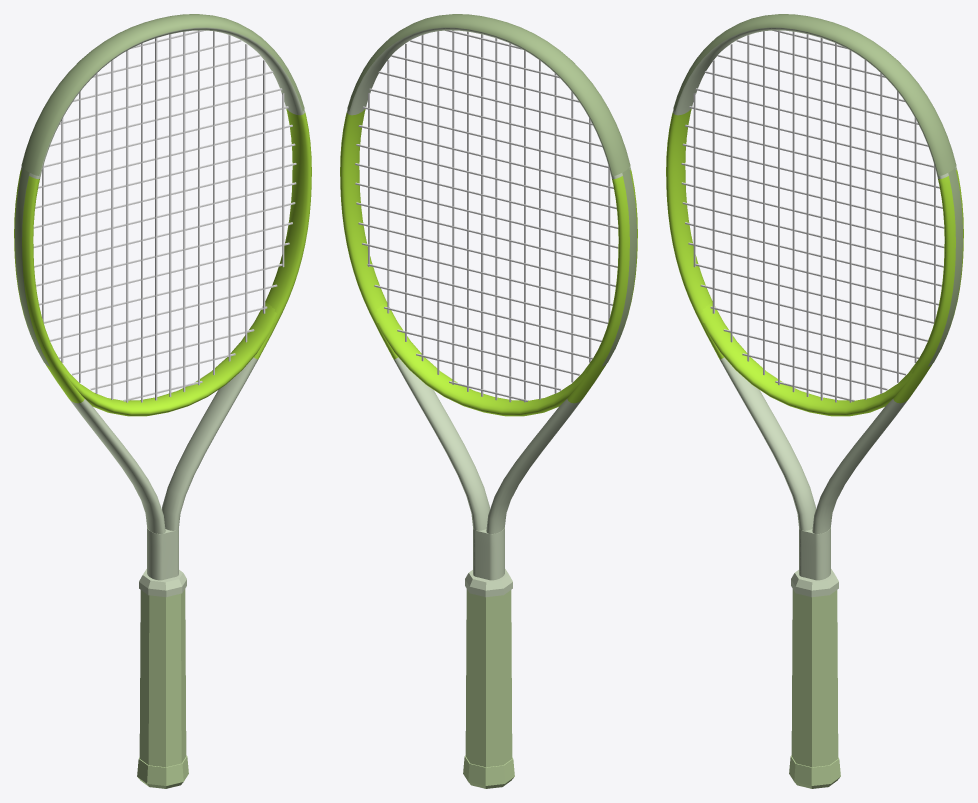
File: head-extreme-team-2024.glb
3 renders of one model, left to right at view 1: azimuth 30°, elevation 25°; view 2: azimuth 150°, elevation 25°; view 3: azimuth 330°, elevation 25°, orthographic.
Parts seen in each view (by area): view 1: frame, strings_mains, strings_crosses, grip, bumper, grommets, butt_cap, collar; view 2: frame, strings_mains, strings_crosses, grip, bumper, grommets, butt_cap, collar; view 3: frame, strings_mains, strings_crosses, grip, bumper, grommets, butt_cap, collar.
Boxes of the visible parts, x1,y1,x2,y2 form: frame: (14,27,311,580); strings_mains: (42,30,284,402); strings_crosses: (33,30,296,401); grip: (139,589,186,767); bumper: (21,14,304,175); grommets: (15,168,49,366); butt_cap: (137,755,188,788); collar: (139,569,186,597); frame: (340,27,637,580); strings_mains: (368,30,610,402); strings_crosses: (355,30,618,401); grip: (465,589,512,767); bumper: (347,14,630,175); grommets: (602,168,636,366); butt_cap: (463,755,514,788); collar: (465,569,512,597); frame: (666,27,963,580); strings_mains: (693,30,935,402); strings_crosses: (681,30,944,401); grip: (791,589,838,767); bumper: (673,14,956,175); grommets: (928,168,962,366); butt_cap: (789,755,840,788); collar: (791,569,838,597).
Size of the model in its own units: 0.2748 by 0.6861 by 0.0396.
